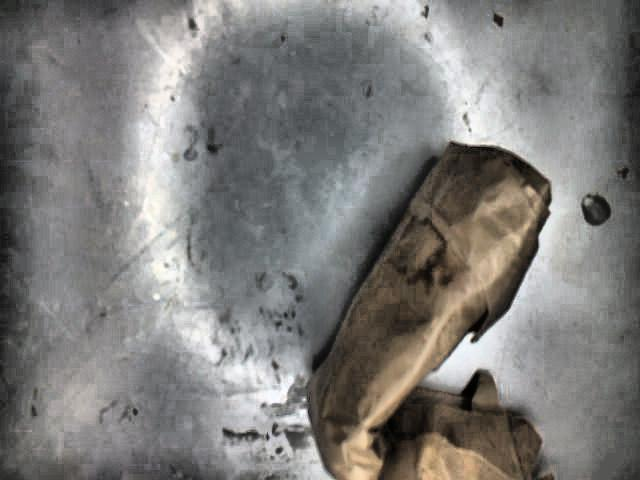Paper: (307, 139, 556, 477)
